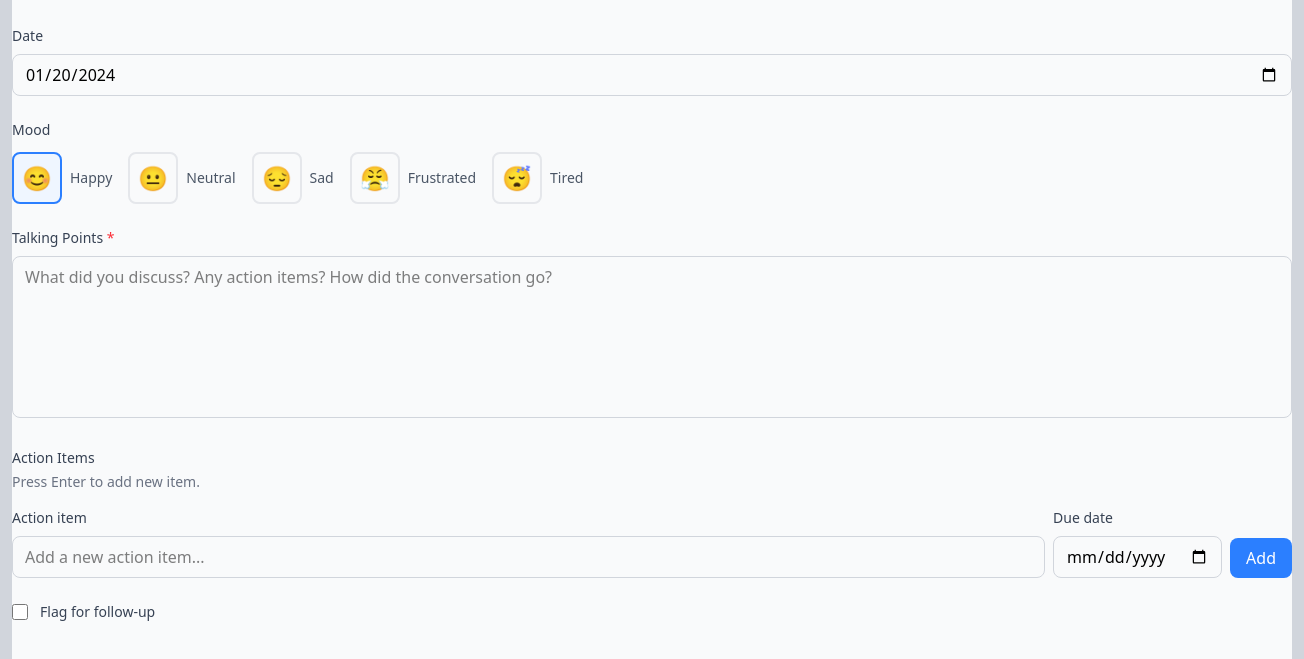
Scenario: OneOnOneNoteForm › shows flag description field when flag is checked
This screenshot has width=1304, height=659.
Expected: the field labelled "Flag Description *" is not shown
Click the checkbox labelled "Flag for follow-up". click: (20, 612)
box: [12,604,28,620]
(page scrolled)
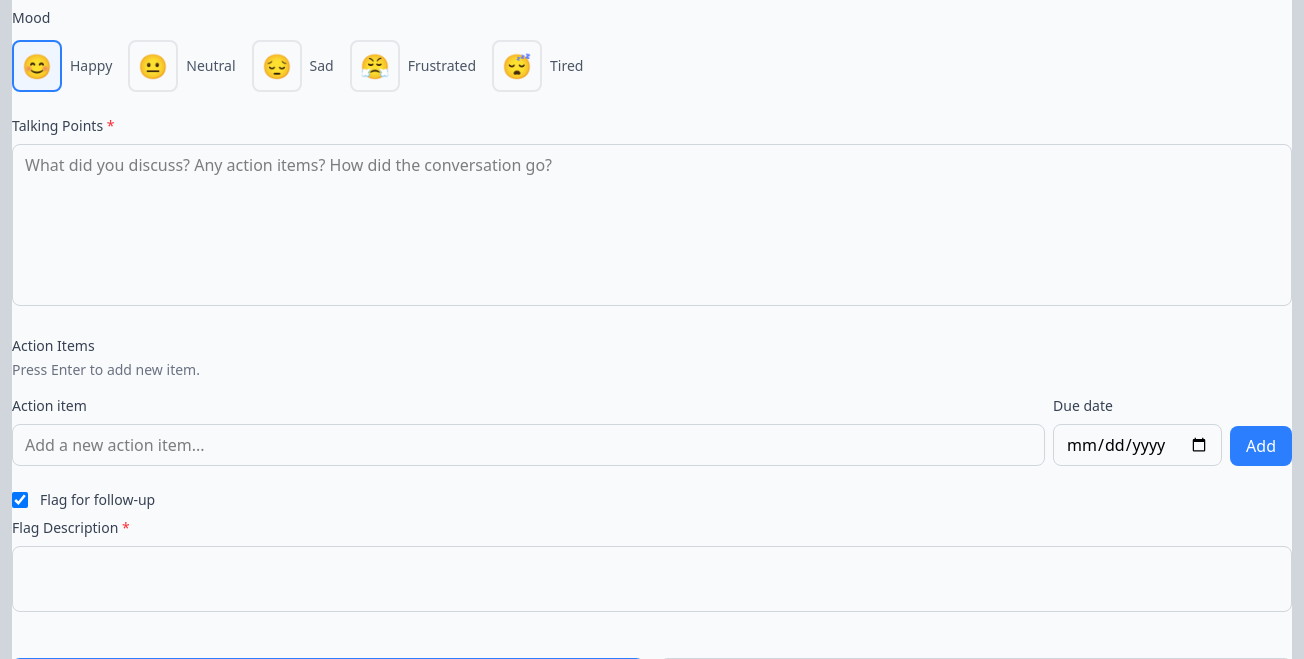
Result: the text box labelled "Flag Description *" is shown at [12,546,1292,612]
